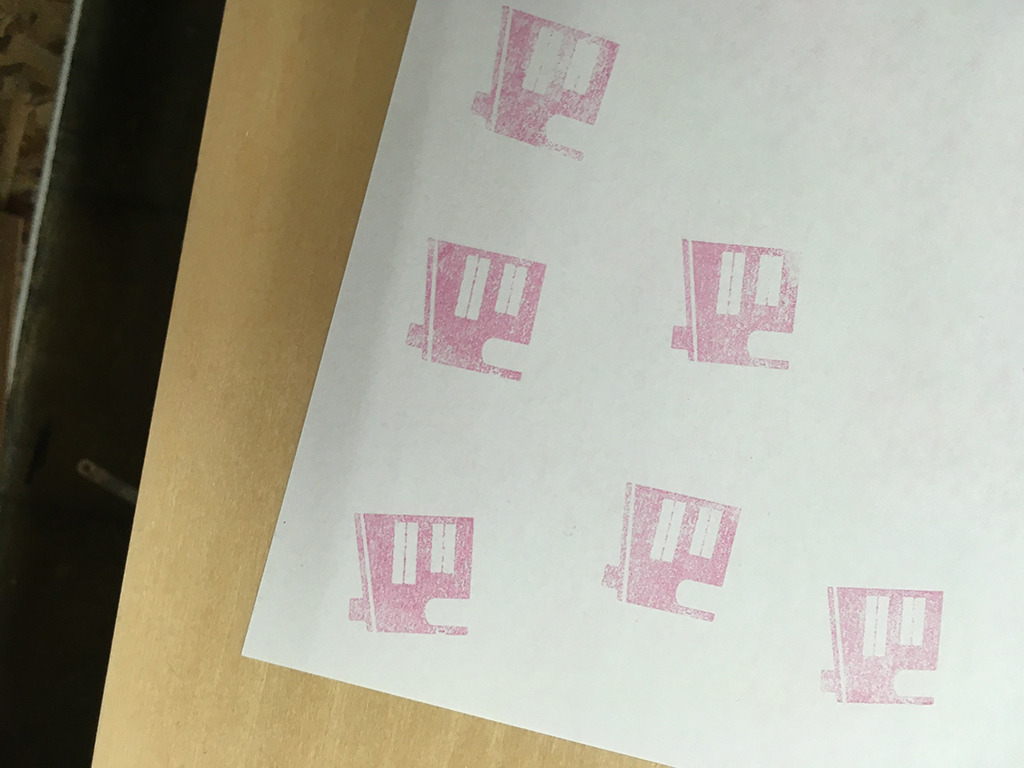house: (465, 2, 624, 174), (406, 230, 553, 392), (596, 476, 746, 630), (663, 224, 806, 380), (810, 573, 951, 716), (340, 505, 482, 646)
